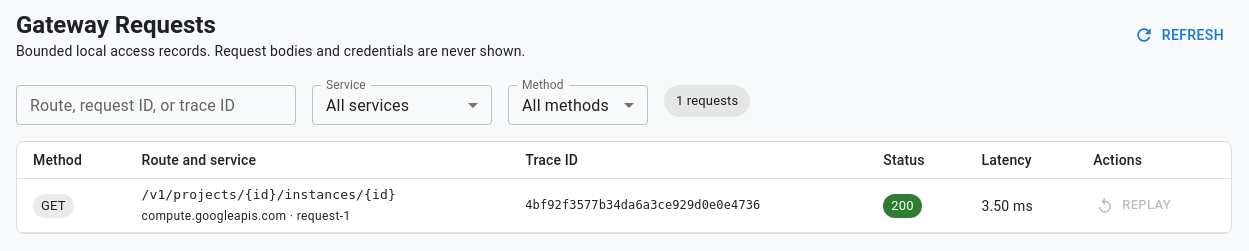
Test: GatewayRequestsPage › filters by visible trace ID
Expected: the text "/v1/projects/{id}/instances/{id}" is shown, top-left (142, 187), bottom-right (396, 202)
In the field labelled "Route, request ID, or trace ID": (156, 105) top-left (16, 85), bottom-right (296, 125), type "missing"
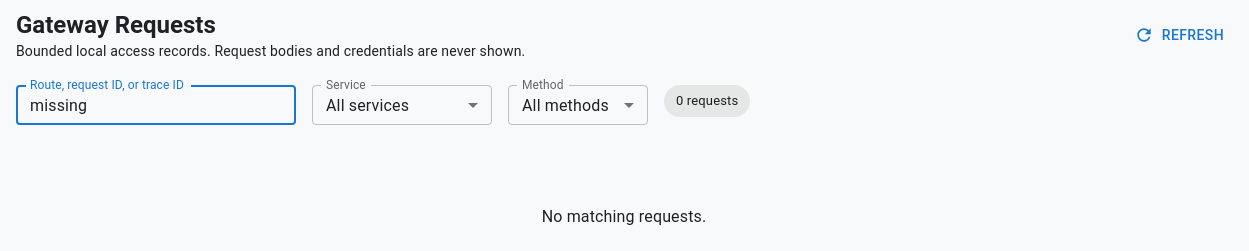
Expected: the text "No matching requests." is shown, top-left (542, 207), bottom-right (706, 226)
